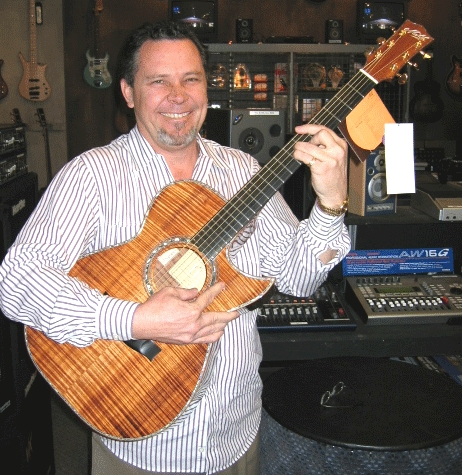guitar: (21, 18, 434, 442)
